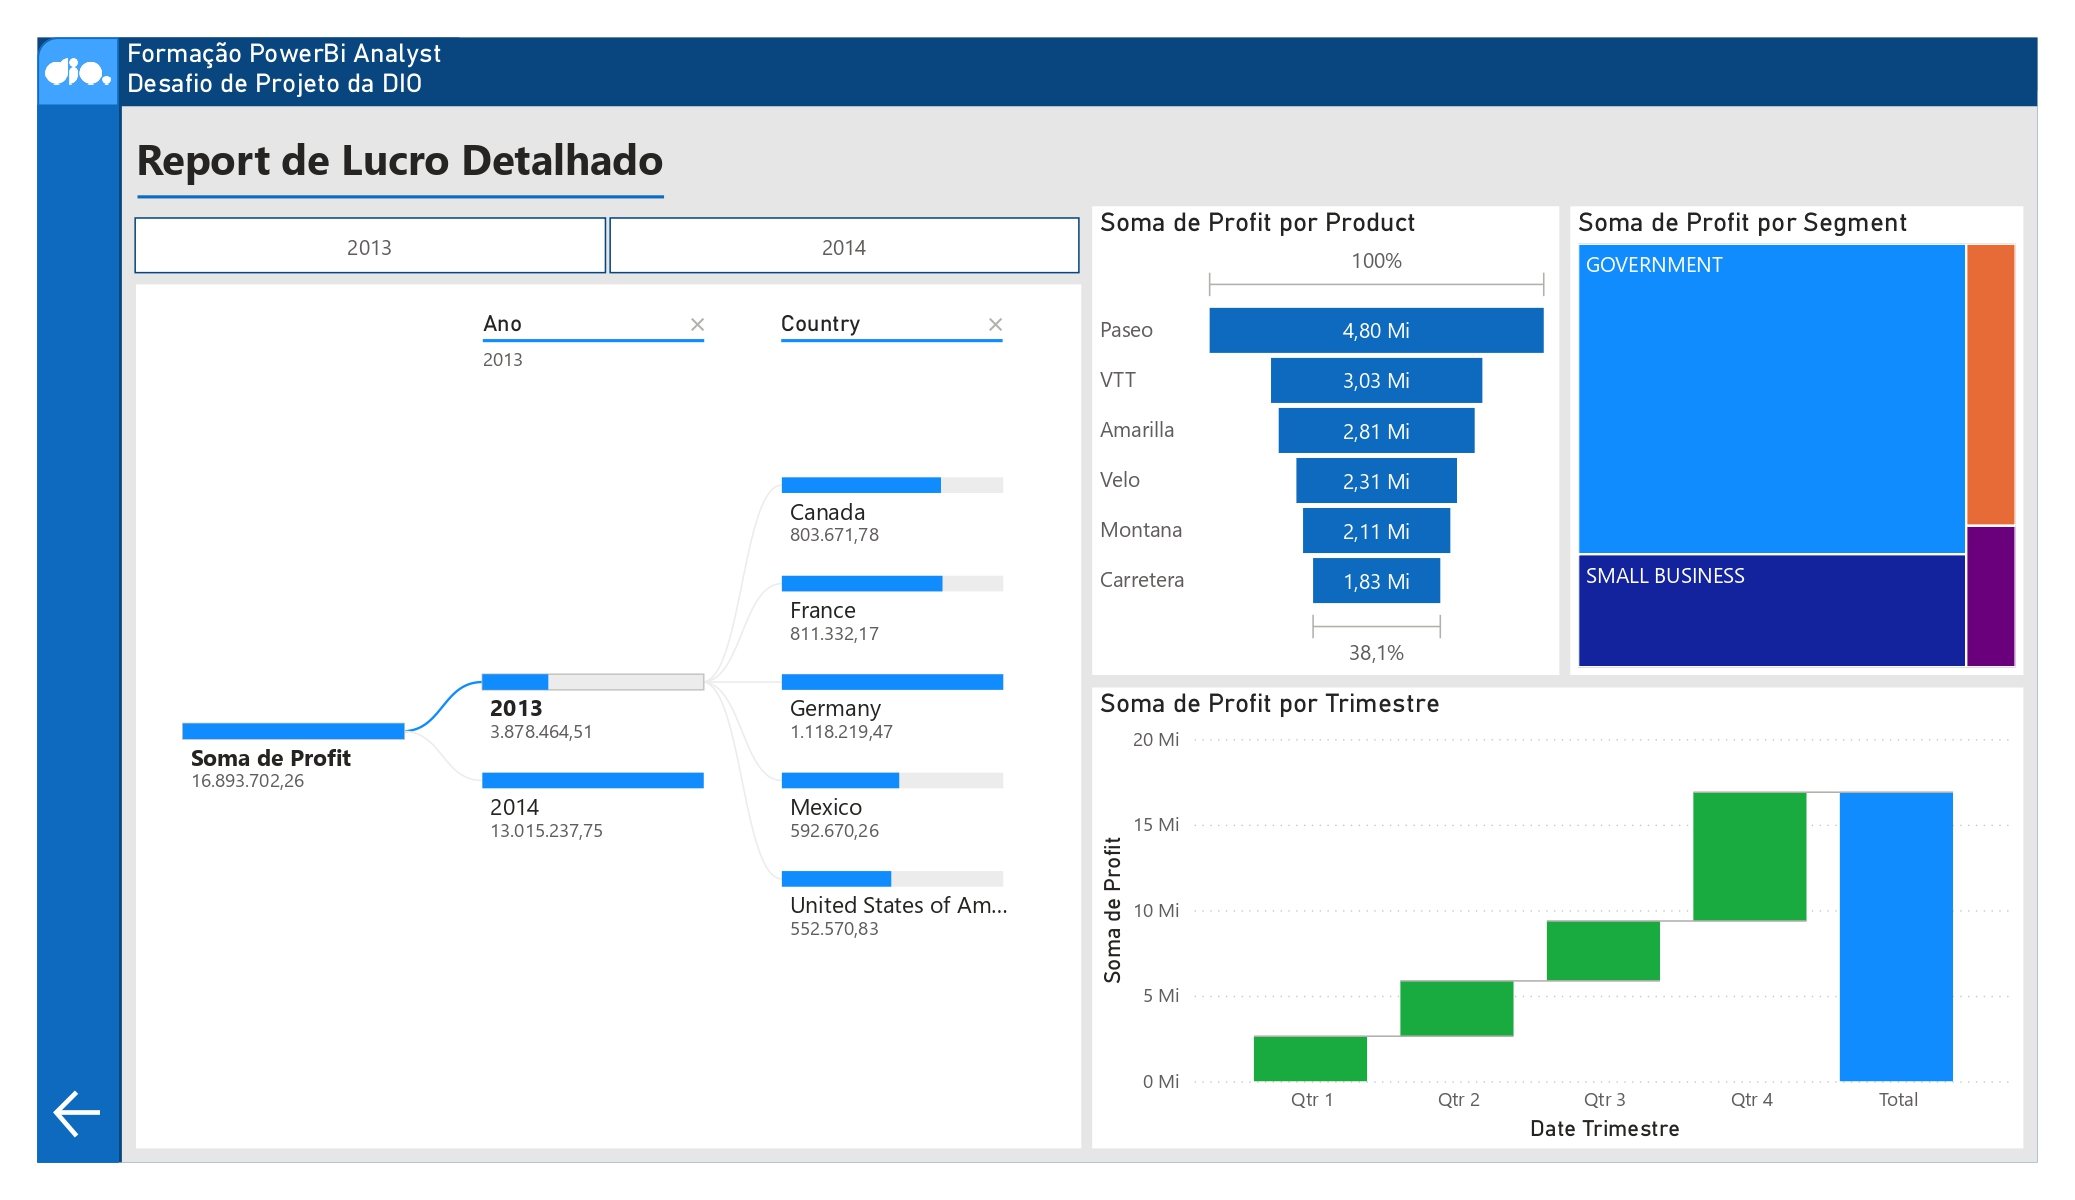

What the dashboard file says about the page in this screenshot:
{"tool":"powerbi","page":{"name":"Página 6","canvas":[1280,720],"ordinal":5},"visuals":[{"type":"shape","box":[0,0,52.4,719.6],"z":0},{"type":"shape","box":[54.4,44.3,1225.6,676.3],"z":1000},{"type":"image","box":[0,0,52.4,43.3],"z":2000},{"type":"shape","box":[0,43.3,52.4,676.3],"z":3000},{"type":"textbox","title":"Formação PowerBi Analyst\nDesafio de Projeto da DIO","box":[52.4,0,217.7,43.3],"z":4000},{"type":"shape","box":[63.6,81.2,337.4,41.9],"z":5000},{"type":"textbox","box":[57.8,54.4,530,53.6],"z":6000},{"type":"actionButton","box":[5.9,665.6,40.2,46],"z":7000},{"type":"slicer","fields":{"Values":["financials.Date.Variation.Hierarquia de datas.Ano"]},"box":[36.4,108.1,654.7,49.4],"z":8000},{"type":"decompositionTreeVisual","fields":{"Analyze":["Sum(financials.Profit)"],"ExplainBy":["financials.Date.Variation.Hierarquia de datas.Ano","financials.Country"]},"box":[63.5,157.5,604.2,553.6],"z":8001},{"type":"treemap","fields":{"Values":["Sum(financials.Profit)"],"Group":["financials.Segment"]},"box":[981.5,108.1,289.1,299.7],"z":8002},{"type":"funnel","fields":{"Category":["financials.Product"],"Y":["Sum(financials.Profit)"]},"box":[674.7,108.1,299.7,299.7],"z":8003},{"type":"waterfallChart","fields":{"Y":["Sum(financials.Profit)"],"Category":["financials.Date.Variation.Hierarquia de datas.Trimestre"]},"box":[674.7,416.1,595.9,295],"z":8004}]}

Visuals, with their boxes on the page's 1280x720 design canvas (x1, y1, x2, y2). These are canvas units, not pixel positions in the 2075x1200 screenshot, which may show the page scaled, cropped or inside an application window:
shape: <box>0,0,52,720</box>
shape: <box>54,44,1280,721</box>
image: <box>0,0,52,43</box>
shape: <box>0,43,52,720</box>
"Formação PowerBi Analyst
Desafio de Projeto da DIO" textbox: <box>52,0,270,43</box>
shape: <box>64,81,401,123</box>
textbox: <box>58,54,588,108</box>
actionButton: <box>6,666,46,712</box>
slicer - financials.Date.Variation.Hierarquia de datas.Ano: <box>36,108,691,158</box>
decompositionTreeVisual - Sum(financials.Profit) x financials.Date.Variation.Hierarquia de datas.Ano: <box>64,158,668,711</box>
treemap - Sum(financials.Profit) x financials.Segment: <box>982,108,1271,408</box>
funnel - financials.Product x Sum(financials.Profit): <box>675,108,974,408</box>
waterfallChart - Sum(financials.Profit) x financials.Date.Variation.Hierarquia de datas.Trimestre: <box>675,416,1271,711</box>
